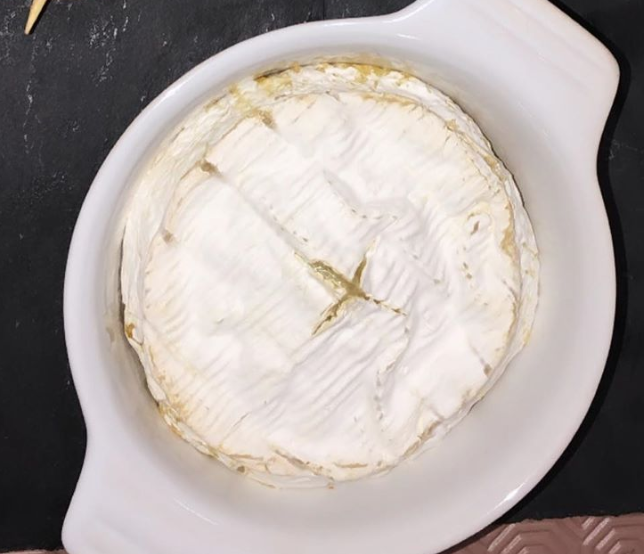camembert: (116, 58, 546, 491)
